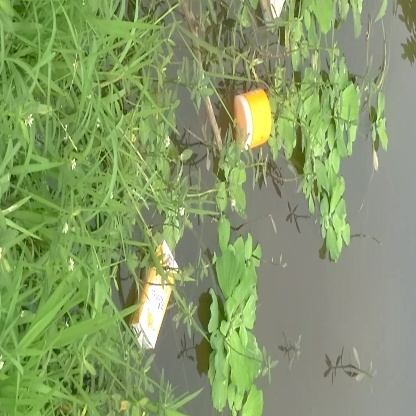bottle: (225, 86, 279, 154)
milk-box: (122, 235, 188, 364)
